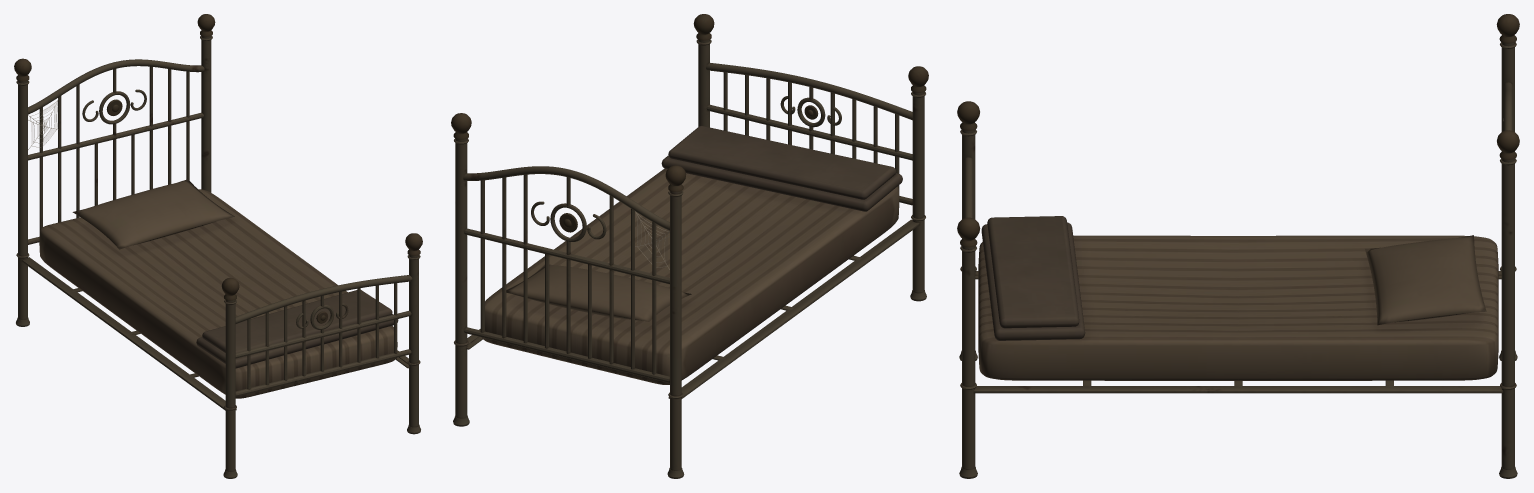
Rendered from old-iron-bed.glb.
3 renders of one model, left to right at view 1: azimuth 30°, elevation 25°; view 2: azimuth 150°, elevation 25°; view 3: azimuth 270°, elevation 25°, orthographic. The views are drawn at different scales.
Parts seen in each view (by area): view 1: old-iron-bed_body, old-iron-bed_web; view 2: old-iron-bed_body, old-iron-bed_web; view 3: old-iron-bed_body.
Part boxes in pixels (<box>): old-iron-bed_body: <box>14,14,422,478</box>; old-iron-bed_web: <box>28,98,58,149</box>; old-iron-bed_body: <box>451,14,928,478</box>; old-iron-bed_web: <box>635,211,669,269</box>; old-iron-bed_body: <box>957,14,1519,478</box>.
Size of the model in its own units: 1.08 by 1.38 by 2.04.
3 materials, 1 textured.
